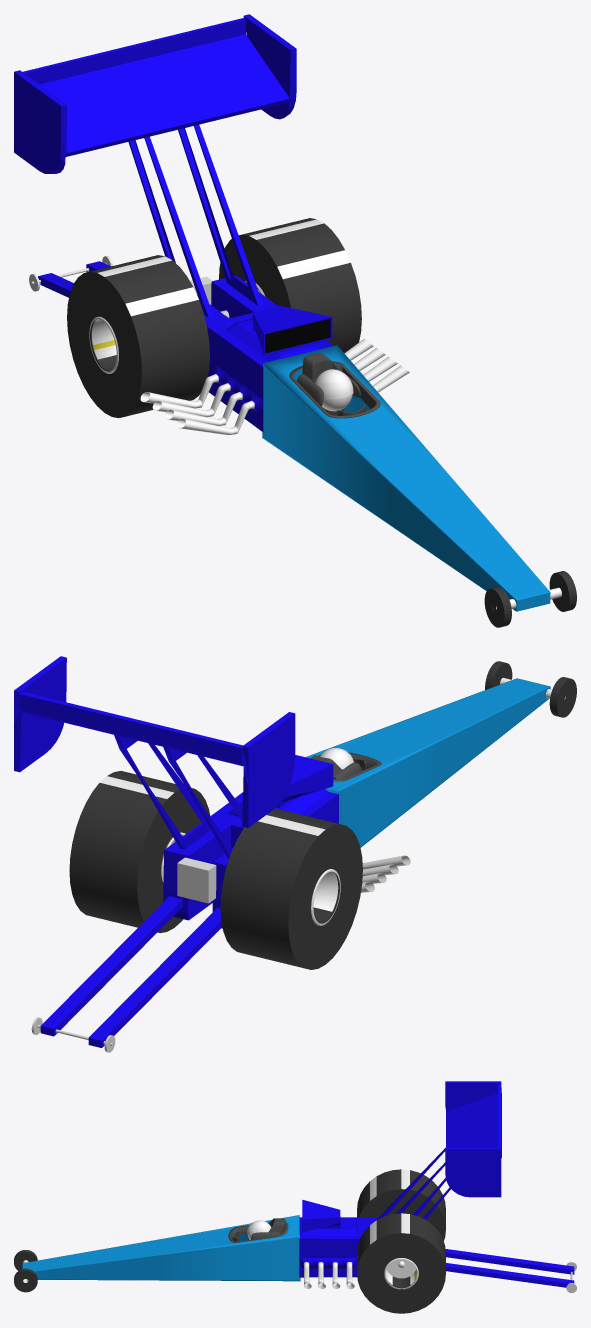
File: realDrag2.glb
3 renders of one model, top to bottom at view 1: azimuth 30°, elevation 25°; view 2: azimuth 150°, elevation 25°; view 3: azimuth 270°, elevation 25°, orthographic. The views are drawn at different scales.
Visible parts, largest first — view 1: body, tire-rear.right, tire-rear.left, tire-front.right, tire-front.left; view 2: body, tire-rear.right, tire-rear.left, Cube.001, tire-front.right, tire-front.left; view 3: body, tire-rear.left, tire-rear.right, tire-front.left.
Boxes of the visible parts, <box> form: body: <box>14,14,561,611</box>; tire-rear.right: <box>67,255,209,418</box>; tire-rear.left: <box>219,218,361,352</box>; tire-front.right: <box>484,587,511,627</box>; tire-front.left: <box>549,571,576,611</box>; body: <box>14,656,565,1047</box>; tire-rear.right: <box>220,808,362,969</box>; tire-rear.left: <box>69,771,210,933</box>; Cube.001: <box>177,857,216,903</box>; tire-front.right: <box>549,677,576,717</box>; tire-front.left: <box>485,661,512,689</box>; body: <box>22,1081,574,1289</box>; tire-rear.left: <box>357,1213,445,1313</box>; tire-rear.right: <box>357,1169,445,1240</box>; tire-front.left: <box>14,1268,37,1292</box>.
Size of the model in its own units: 1.79 by 2.04 by 6.22.
